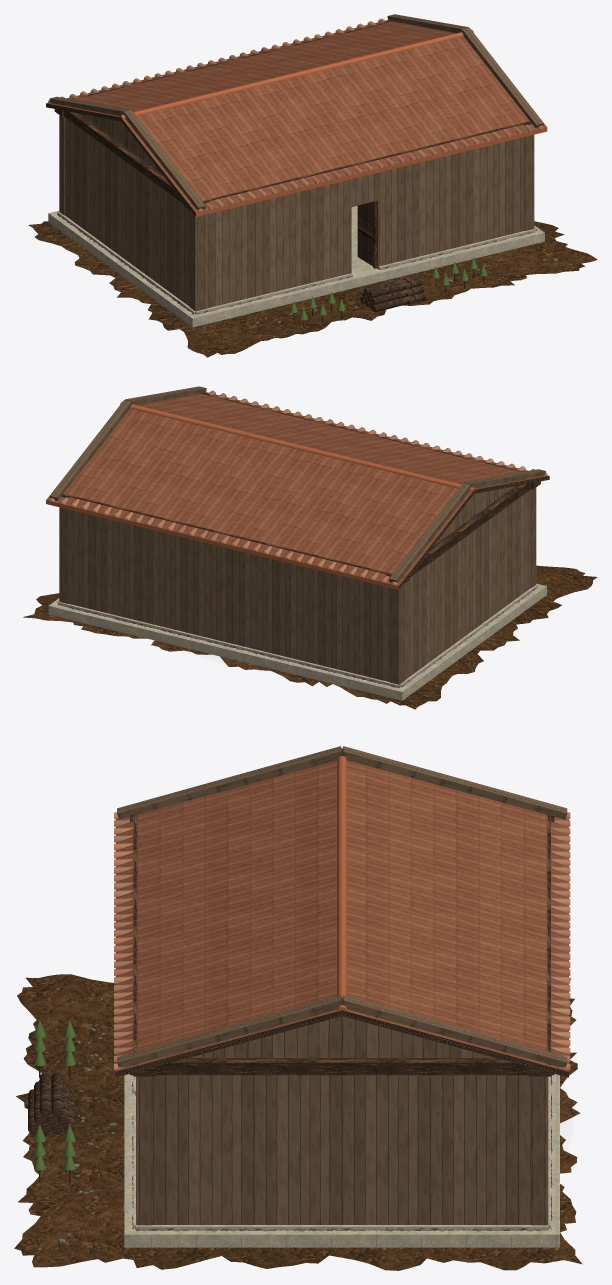
File: forester@2.glb
3 views of the same model, one above another, from view 1: azimuth 30°, elevation 25°; view 2: azimuth 150°, elevation 25°; view 3: azimuth 270°, elevation 25° (orthographic). The views are drawn at different scales.
Visible parts, largest first — view 1: part_18, part_6, part_1, part_5, part_7, part_19, part_20, part_21, part_4, part_17; view 2: part_6, part_18, part_5, part_1, part_19, part_7, part_20, part_21, part_4; view 3: part_18, part_6, part_1, part_7, part_5, part_19, part_21, part_20, part_17, part_4.
Boxes of the visible parts, x1,y1,x2,y2 form: part_18: [46, 20, 546, 213]; part_6: [59, 114, 534, 311]; part_1: [28, 221, 597, 357]; part_5: [48, 205, 544, 327]; part_7: [46, 20, 532, 327]; part_19: [49, 14, 543, 209]; part_20: [119, 29, 547, 216]; part_21: [48, 18, 544, 212]; part_4: [57, 214, 536, 314]; part_17: [290, 257, 487, 320]; part_6: [59, 486, 536, 684]; part_18: [46, 392, 548, 585]; part_5: [48, 583, 546, 700]; part_1: [23, 565, 597, 709]; part_19: [49, 386, 545, 582]; part_7: [61, 392, 549, 589]; part_20: [46, 402, 475, 589]; part_21: [48, 390, 547, 585]; part_4: [58, 586, 537, 687]; part_18: [115, 760, 568, 1071]; part_6: [136, 1016, 548, 1225]; part_1: [14, 974, 582, 1270]; part_7: [28, 815, 568, 1182]; part_5: [124, 1074, 559, 1247]; part_19: [117, 746, 567, 1067]; part_21: [114, 812, 570, 1069]; part_20: [337, 748, 346, 1011]; part_17: [33, 1019, 75, 1170]; part_4: [132, 1075, 552, 1231].
Bounding box in the file's own units: 8.71 × 3.4 × 7.21.
22 materials, 13 textured.
